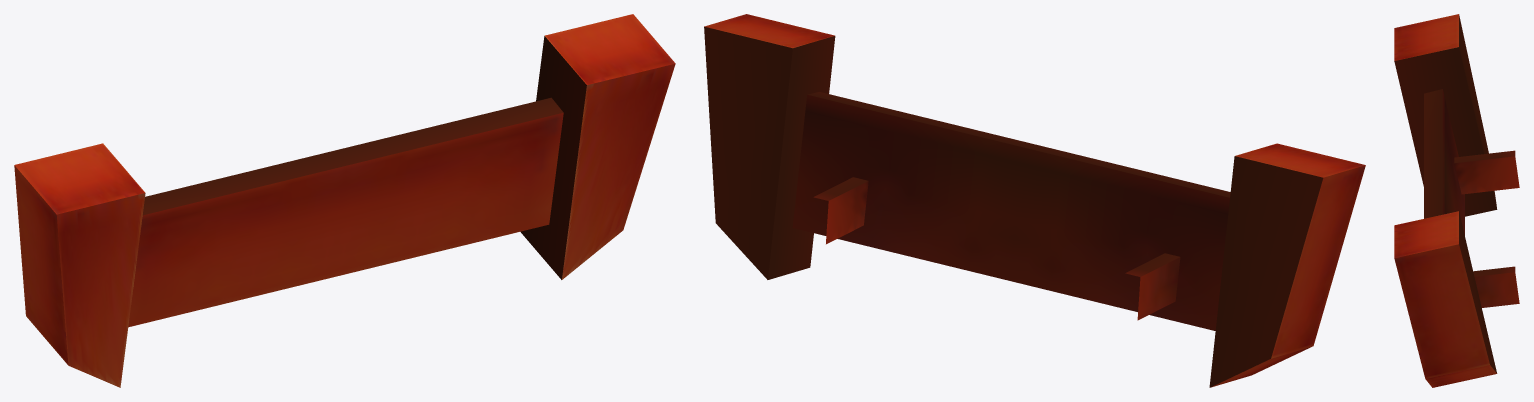
Rendered from Truck 3 Spoiler.glb.
The picture shows the model from 3 angles, left to right: view 1: azimuth 30°, elevation 25°; view 2: azimuth 150°, elevation 25°; view 3: azimuth 270°, elevation 25°; orthographic projection. The views are drawn at different scales.
Parts seen in each view (by area): view 1: spoiler; view 2: spoiler; view 3: spoiler.
Boxes of the visible parts, left/top/right/bottom form: spoiler: left=14, top=14, right=675, bottom=387; spoiler: left=704, top=14, right=1365, bottom=387; spoiler: left=1394, top=14, right=1519, bottom=387.
Bounding box in the file's own units: 1.91 × 0.6834 × 0.4392.
Materials: 1 (1 with a texture image).
